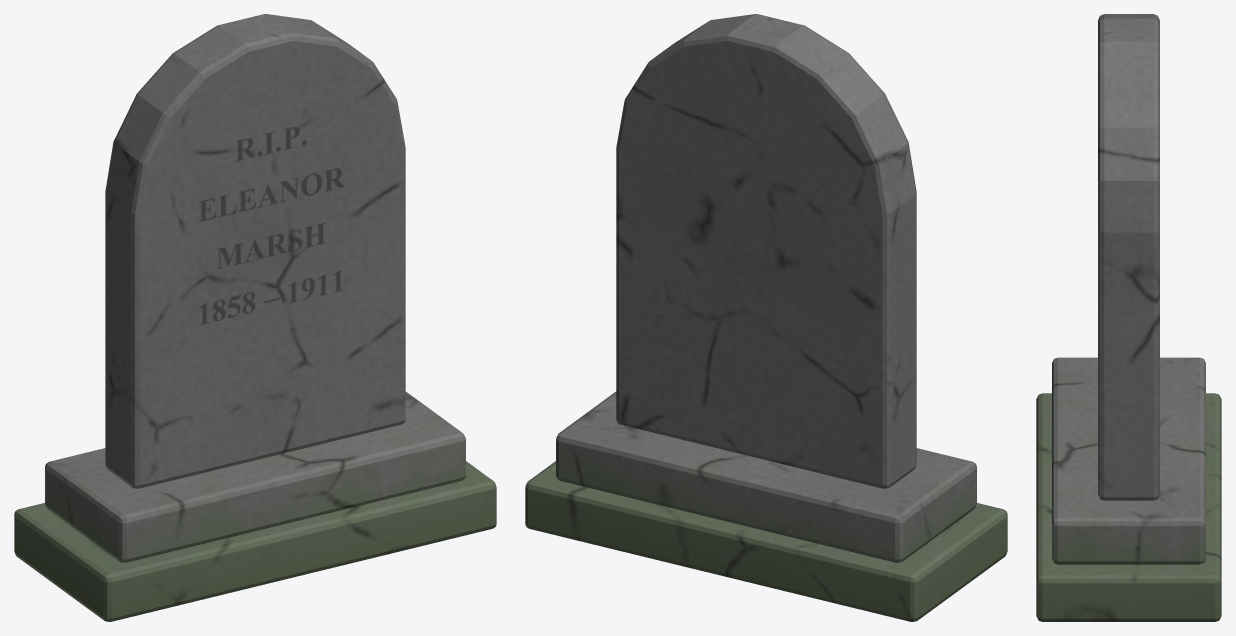
Rendered from gravestone_arch_a.glb.
The picture shows the model from 3 angles, left to right: view 1: azimuth 30°, elevation 25°; view 2: azimuth 150°, elevation 25°; view 3: azimuth 270°, elevation 25°; orthographic projection. The views are drawn at different scales.
Parts seen in each view (by area): view 1: gravestone_arch_a; view 2: gravestone_arch_a; view 3: gravestone_arch_a.
Boxes of the visible parts, <box> form: gravestone_arch_a: <box>14,14,496,621</box>; gravestone_arch_a: <box>525,14,1007,621</box>; gravestone_arch_a: <box>1036,14,1221,621</box>.
Size of the model in its own units: 0.86 by 1.08 by 0.36.
1 material, 1 textured.
